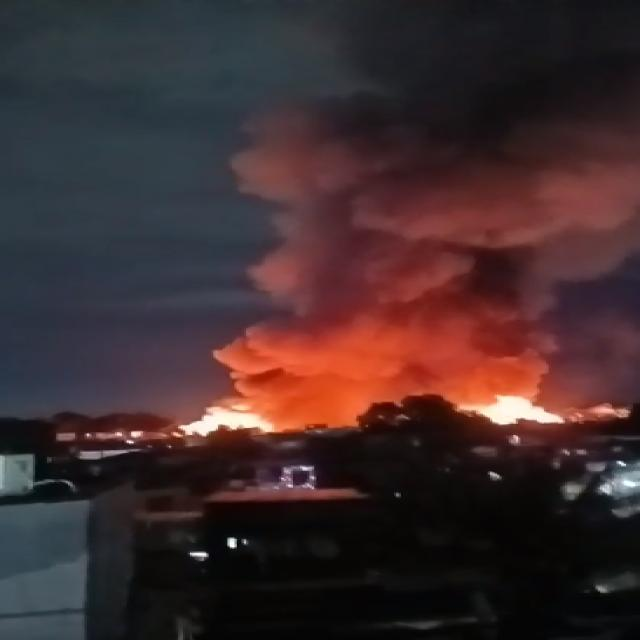Fire: (180, 403, 274, 434), (476, 395, 574, 424)
Smoke: (239, 146, 565, 414), (321, 0, 640, 211)
